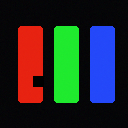1 square: (33, 76, 43, 86)
